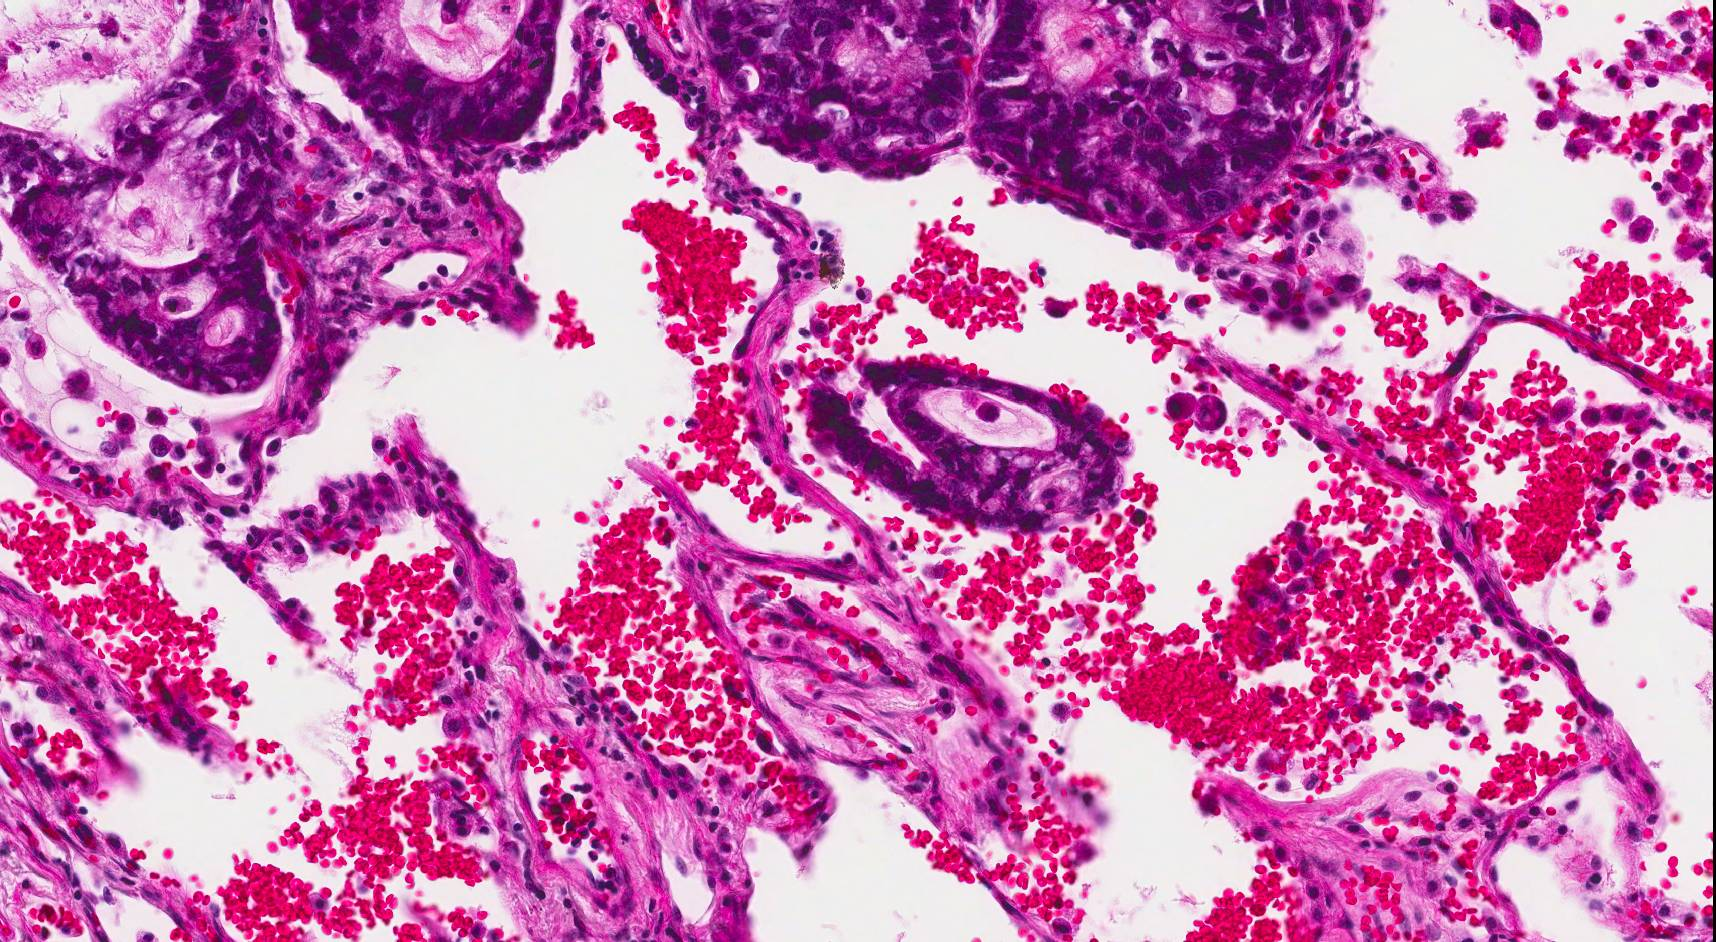stas: (799, 352, 1140, 536)
